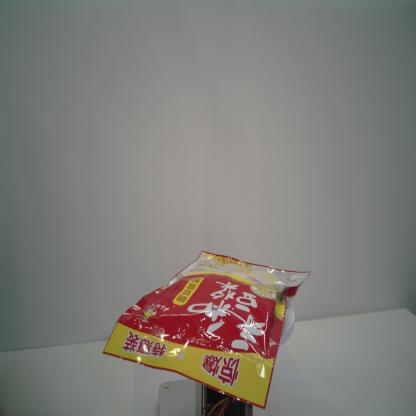Instant Drink: (102, 248, 311, 412)
